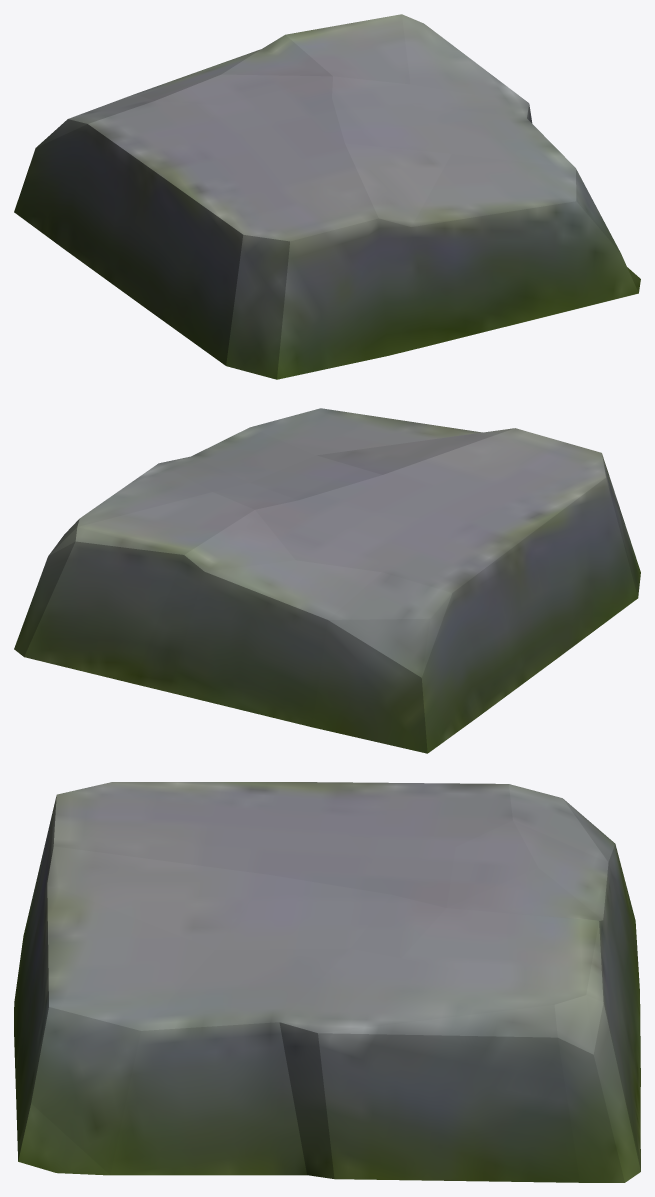
Rendered from sn_pebble_square_1.glb.
3 renders of one model, top to bottom at view 1: azimuth 30°, elevation 25°; view 2: azimuth 150°, elevation 25°; view 3: azimuth 270°, elevation 25°, orthographic. The views are drawn at different scales.
Visible parts, largest first — view 1: Pebble_Square_1; view 2: Pebble_Square_1; view 3: Pebble_Square_1.
Boxes of the visible parts, bbox=[...] form: Pebble_Square_1: bbox=[14, 14, 640, 379]; Pebble_Square_1: bbox=[14, 408, 640, 753]; Pebble_Square_1: bbox=[14, 782, 640, 1182].
Bounding box in the file's own units: 0.4347 × 0.1299 × 0.4396.
Materials: 1 (1 with a texture image).
